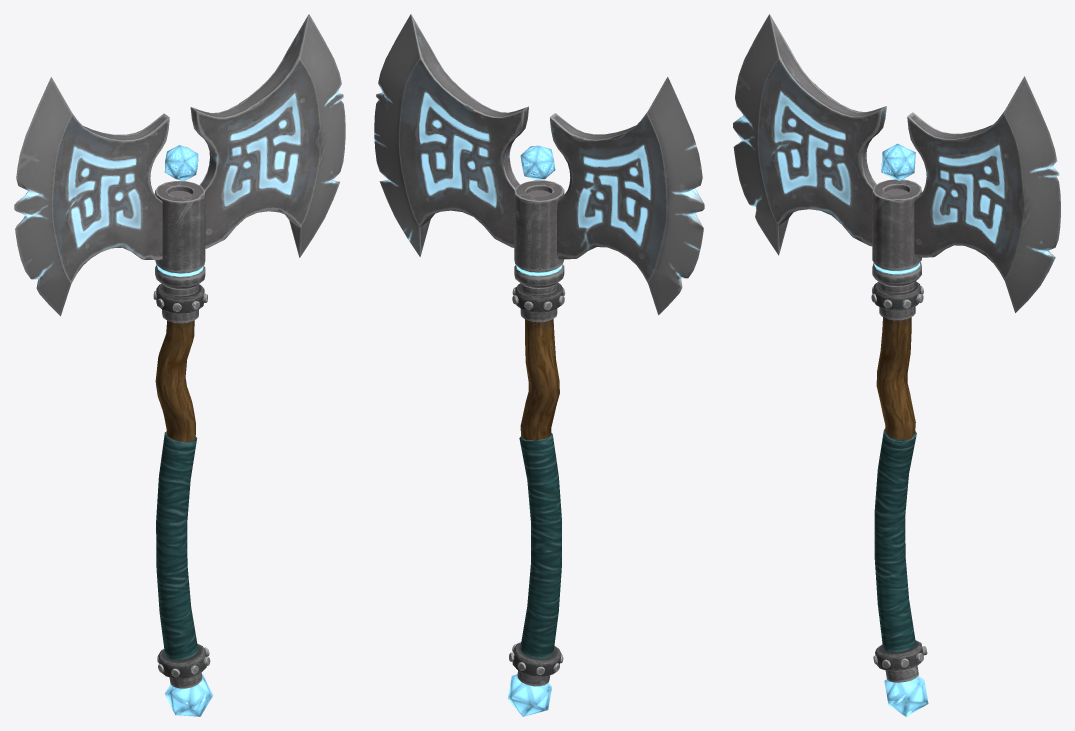
Rendered from blue_axe.glb.
3 views of the same model, side by side, from view 1: azimuth 30°, elevation 25°; view 2: azimuth 150°, elevation 25°; view 3: azimuth 330°, elevation 25° (orthographic).
Visible parts, largest first — view 1: blades_low, wrap_low, metal_low, drska_low, okosrafovi_low, pummel_low, d20_low; view 2: blades_low, wrap_low, metal_low, drska_low, okosrafovi_low, pummel_low, d20_low; view 3: blades_low, wrap_low, metal_low, drska_low, okosrafovi_low, pummel_low, d20_low.
Part boxes in pixels (x1=…): blades_low: x1=14, y1=14, x2=345, y2=316; wrap_low: x1=156, y1=431, x2=197, y2=660; metal_low: x1=155, y1=181, x2=205, y2=688; drska_low: x1=155, y1=320, x2=195, y2=442; okosrafovi_low: x1=156, y1=284, x2=206, y2=678; pummel_low: x1=165, y1=674, x2=213, y2=716; d20_low: x1=164, y1=145, x2=198, y2=181; blades_low: x1=374, y1=14, x2=704, y2=315; wrap_low: x1=519, y1=433, x2=561, y2=658; metal_low: x1=514, y1=180, x2=564, y2=686; drska_low: x1=520, y1=319, x2=559, y2=440; okosrafovi_low: x1=512, y1=283, x2=563, y2=676; pummel_low: x1=508, y1=674, x2=552, y2=716; d20_low: x1=520, y1=145, x2=555, y2=179; blades_low: x1=733, y1=14, x2=1060, y2=312; wrap_low: x1=874, y1=428, x2=916, y2=652; metal_low: x1=872, y1=179, x2=921, y2=682; drska_low: x1=876, y1=317, x2=915, y2=440; okosrafovi_low: x1=873, y1=281, x2=923, y2=671; pummel_low: x1=884, y1=676, x2=928, y2=716; d20_low: x1=881, y1=143, x2=915, y2=181.
Bounding box in the file's own units: 1.01 × 1.95 × 0.1441.
2 materials, 2 textured.
